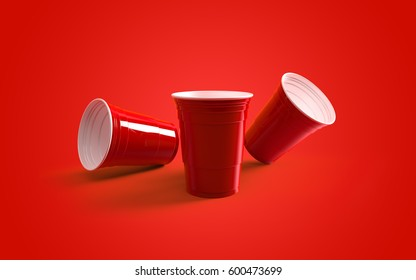plastic_glass: (170, 86, 255, 205)
